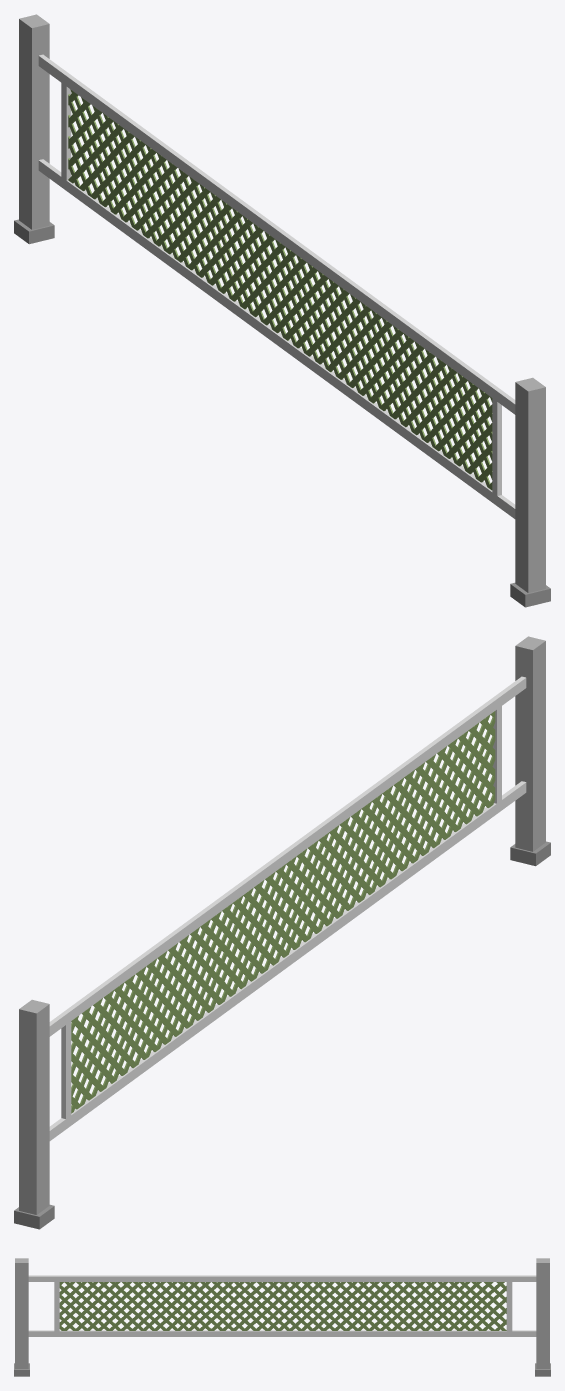
File: tennis.fbx
3 views of the same model, one above another, from view 1: azimuth 30°, elevation 25°; view 2: azimuth 150°, elevation 25°; view 3: azimuth 270°, elevation 25° (orthographic). The views are drawn at different scales.
Parts seen in each view (by area): view 1: Cube_1; view 2: Cube_1; view 3: Cube_1.
Boxes of the visible parts, x1,y1,x2,y2 form: Cube_1: (14,14,550,607); Cube_1: (14,636,550,1229); Cube_1: (14,1258,550,1376).
Size of the model in its own units: 29.28 by 234 by 1011.
